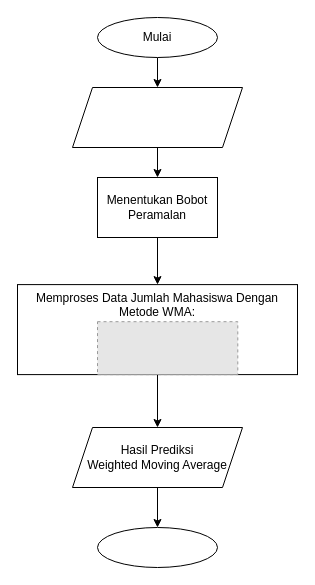
The diagram is 315 pixels wide and 585 high, and some of its shapes have lost their labels. Grey dashed boxes stand in for pictures. Each missing label, with the centre of its shape:
Input Data Jumlah Mahasiswa Periode Sebelumnya: pixel 157 117
Selesai: pixel 157 547
